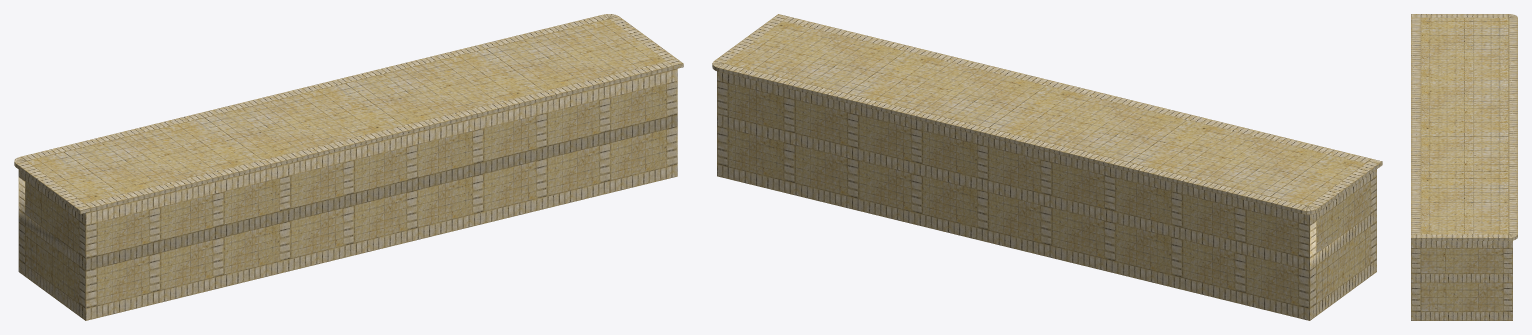
Rendered from tutorial_structure_block03.dae.
The picture shows the model from 3 angles, left to right: view 1: azimuth 30°, elevation 25°; view 2: azimuth 150°, elevation 25°; view 3: azimuth 270°, elevation 25°; orthographic projection. The views are drawn at different scales.
Parts seen in each view (by area): view 1: tutorial_structure_block03; view 2: tutorial_structure_block03; view 3: tutorial_structure_block03.
Boxes of the visible parts, bbox=[...] form: tutorial_structure_block03: bbox=[14, 14, 683, 320]; tutorial_structure_block03: bbox=[712, 14, 1382, 320]; tutorial_structure_block03: bbox=[1411, 14, 1517, 320].
Bounding box in the file's own units: 38.94 × 7.85 × 6.88.
Materials: 3 (3 with a texture image).
